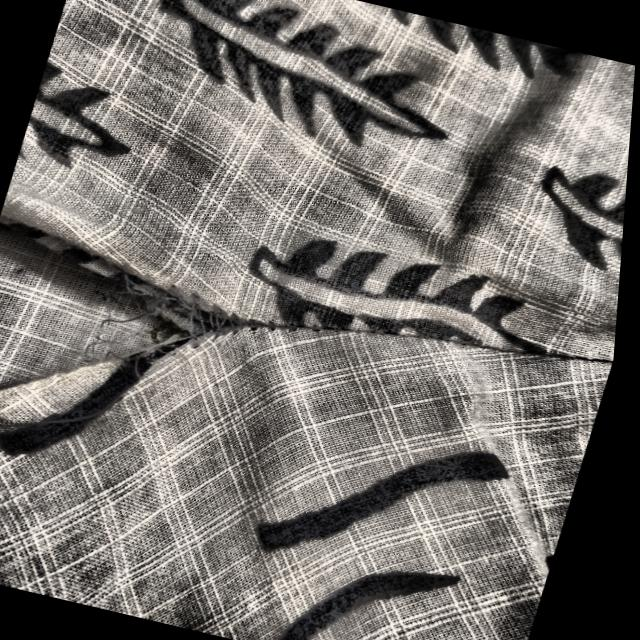Stitch: (0, 178, 386, 515)
